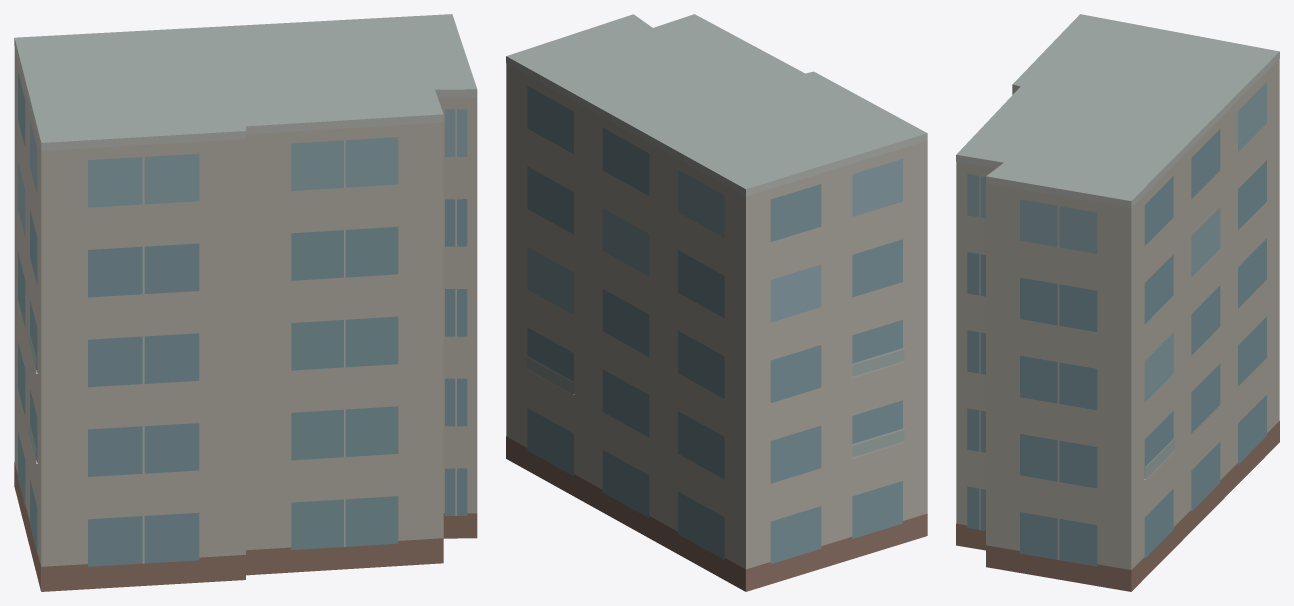
Rendered from survey-upis-32962166.glb.
The picture shows the model from 3 angles, left to right: view 1: azimuth 30°, elevation 25°; view 2: azimuth 150°, elevation 25°; view 3: azimuth 270°, elevation 25°; orthographic projection. The views are drawn at different scales.
Visible parts, largest first — view 1: survey-upis-32962166.tmp; view 2: survey-upis-32962166.tmp; view 3: survey-upis-32962166.tmp.
Part boxes in pixels (x1=…): survey-upis-32962166.tmp: x1=14, y1=14, x2=477, y2=591; survey-upis-32962166.tmp: x1=506, y1=14, x2=927, y2=591; survey-upis-32962166.tmp: x1=956, y1=14, x2=1279, y2=591.
Bounding box in the file's own units: 14.03 × 13.65 × 10.26.
